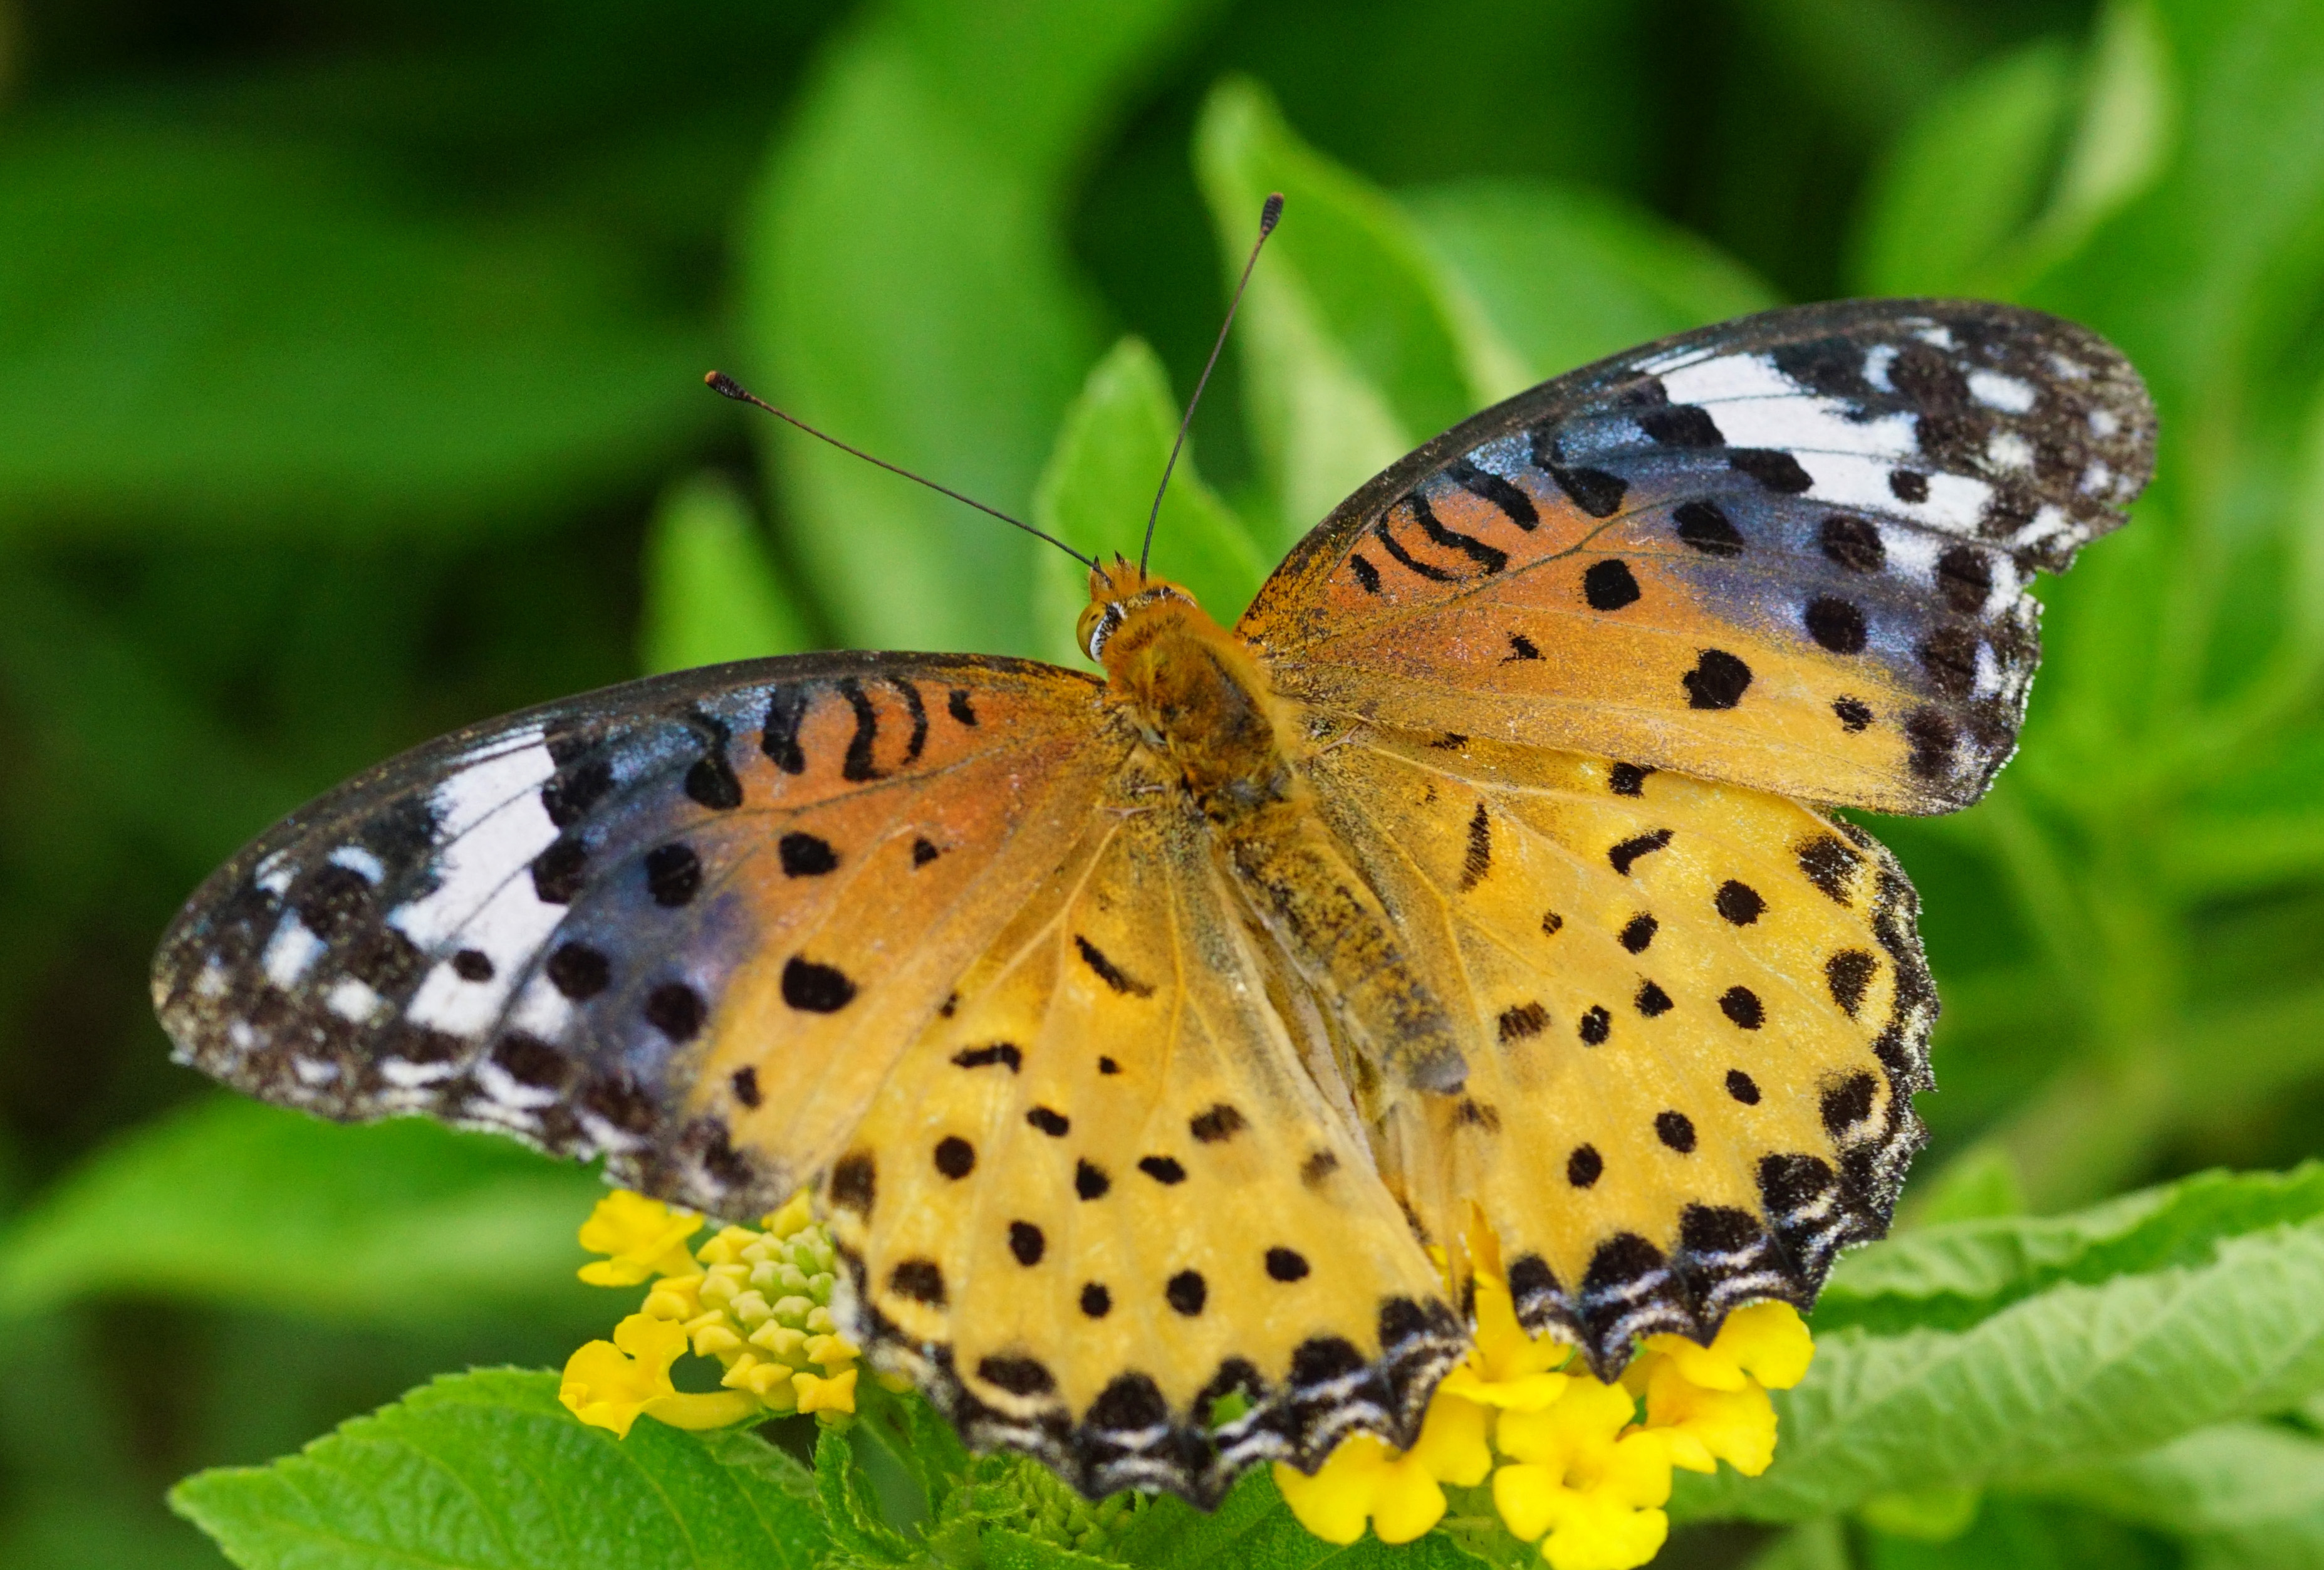Argyreus hyperbius: (124, 165, 2161, 1509)
butterfly: (126, 166, 2163, 1510)
